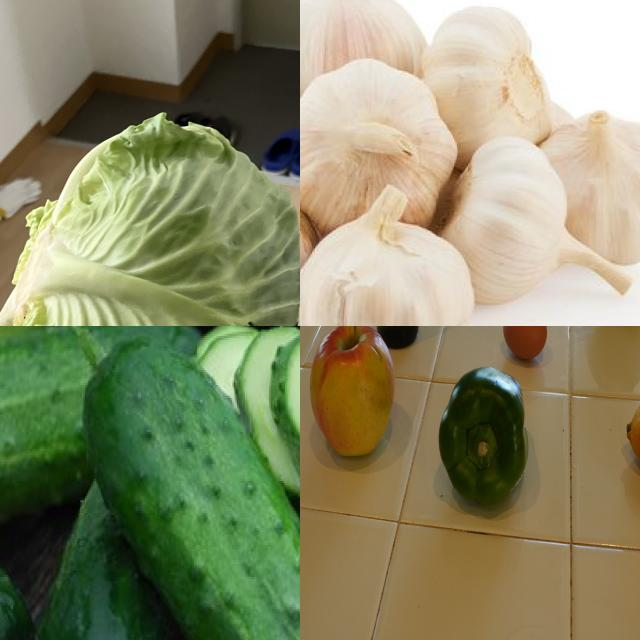bell_pepper: (426, 361, 540, 515)
cabbage: (1, 110, 301, 327)
cucumber: (82, 345, 301, 640)
egg: (499, 327, 553, 368)
garlic: (448, 137, 626, 313), (301, 62, 460, 233), (301, 191, 478, 327), (431, 14, 557, 154), (545, 112, 640, 272), (301, 1, 424, 111)
